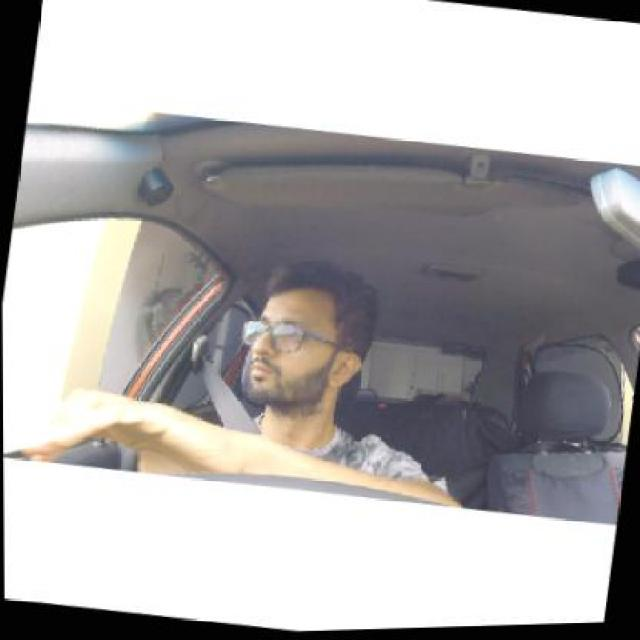LeftRight: (240, 256, 380, 416)
